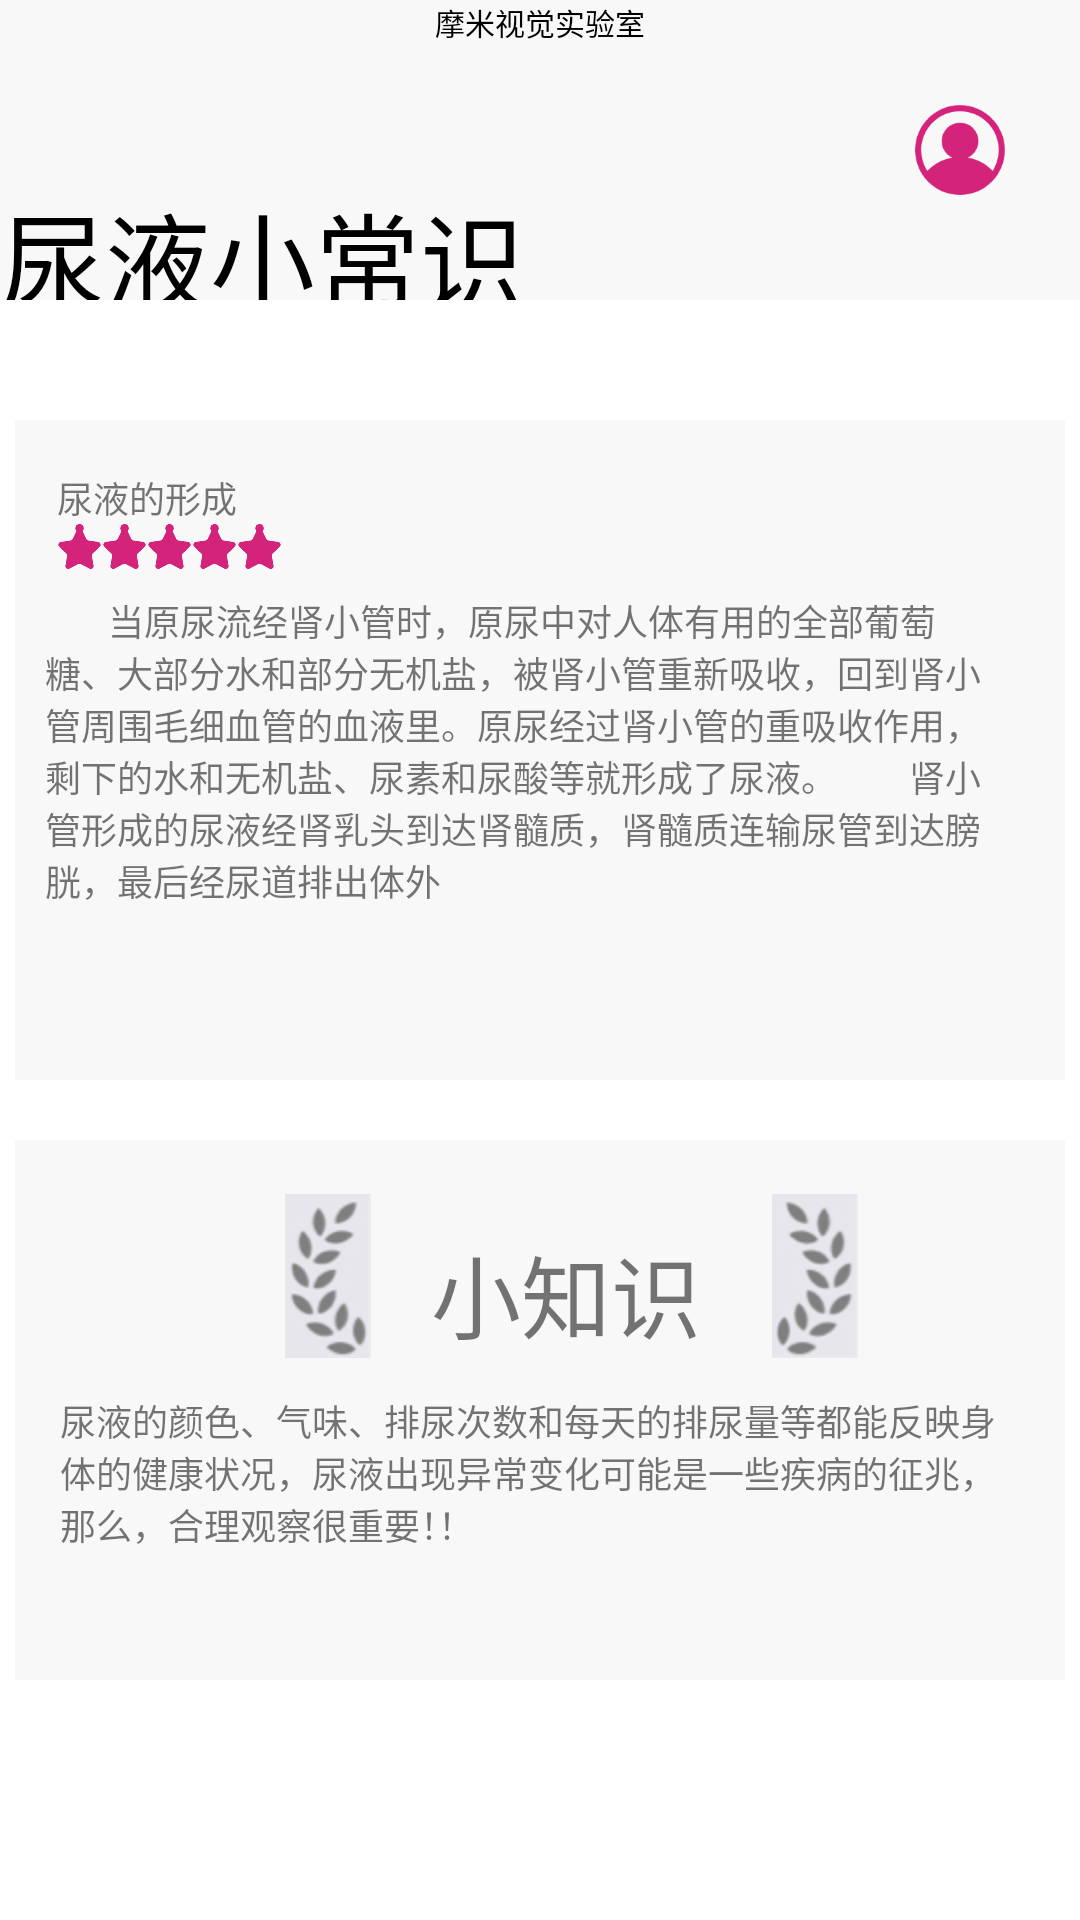

Named icons in this screenshot (1080px x 1920px) and their bounding boxes, (x1, y1, x2, y2):
head: (915, 105, 1005, 195)
star: (58, 524, 101, 569), (103, 524, 146, 569), (148, 524, 191, 569), (193, 524, 236, 569), (238, 524, 281, 569)
